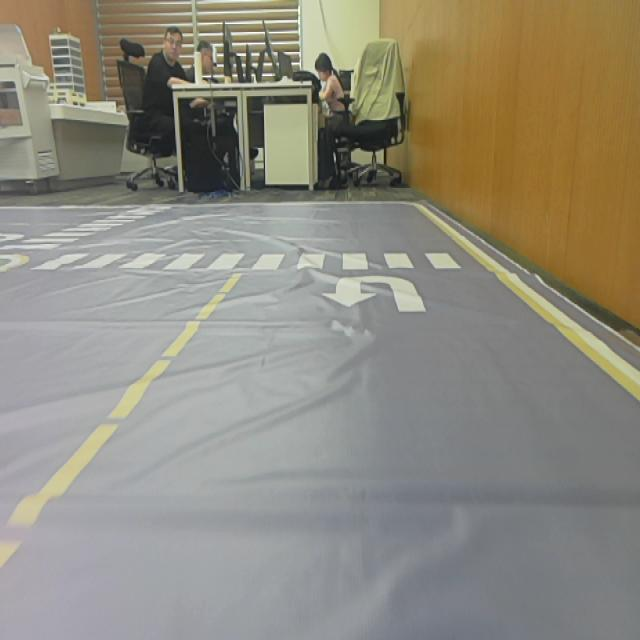left_lane: (0, 274, 239, 569)
right_lane: (413, 205, 640, 407)
